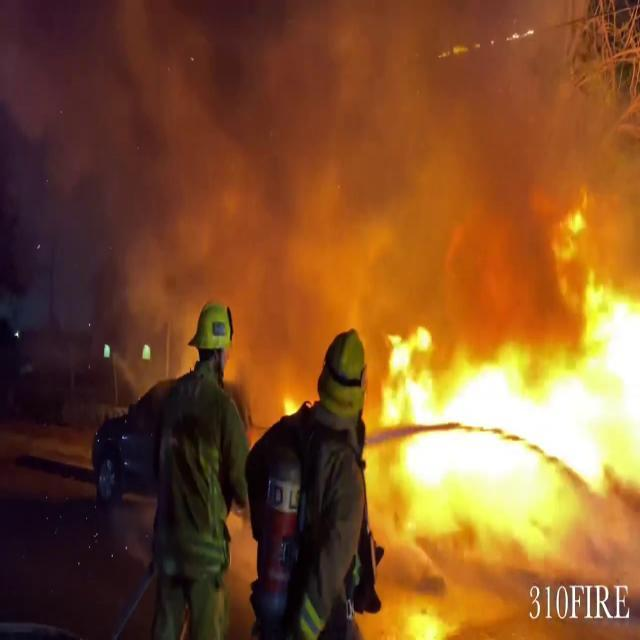Fire: (374, 225, 640, 517)
Smoke: (6, 0, 632, 341)
